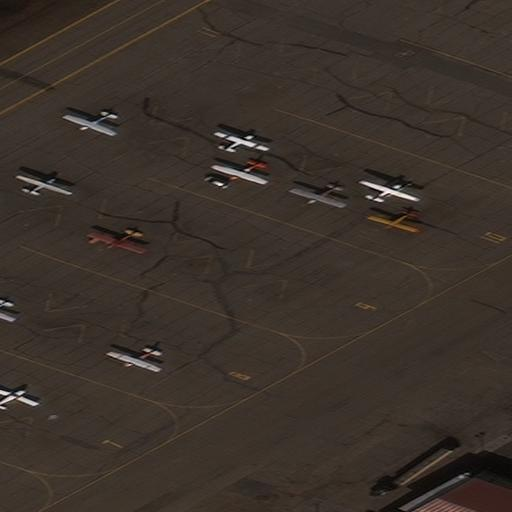Small Civil Transport: (208, 159, 263, 185), (85, 229, 140, 254), (288, 183, 343, 208), (361, 179, 421, 201), (105, 348, 157, 372), (61, 112, 112, 136), (17, 174, 71, 194), (366, 211, 417, 232), (215, 131, 268, 151), (0, 387, 39, 407), (0, 300, 13, 322)
